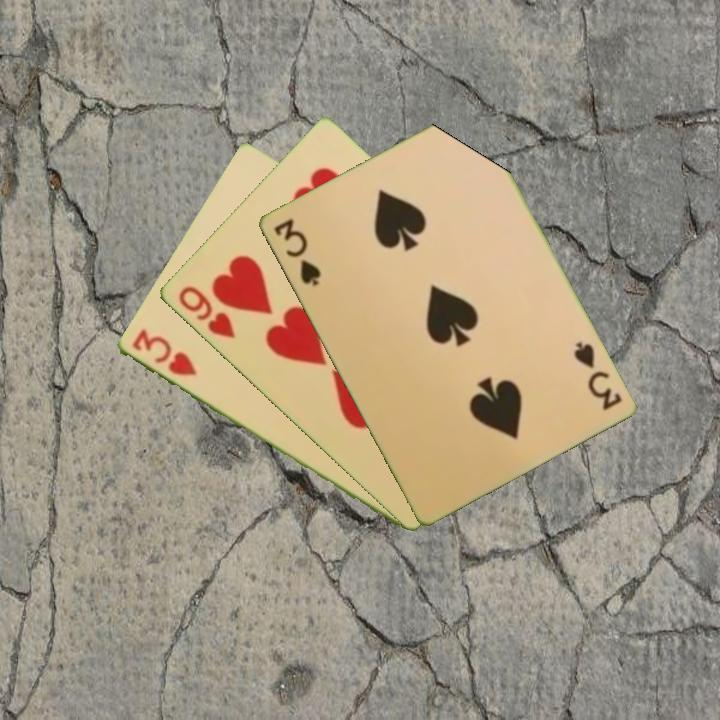3h: (128, 325, 200, 379)
3s: (569, 337, 624, 413), (269, 214, 323, 289)
9h: (174, 282, 238, 341)
